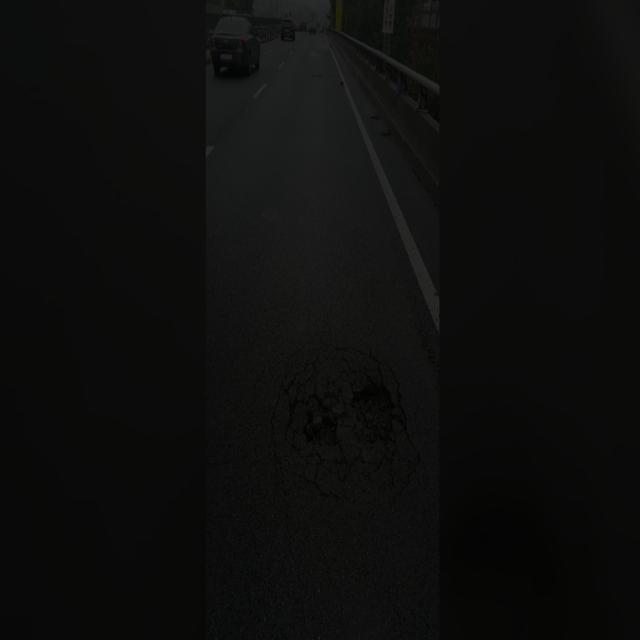pothole: (288, 339, 405, 478)
